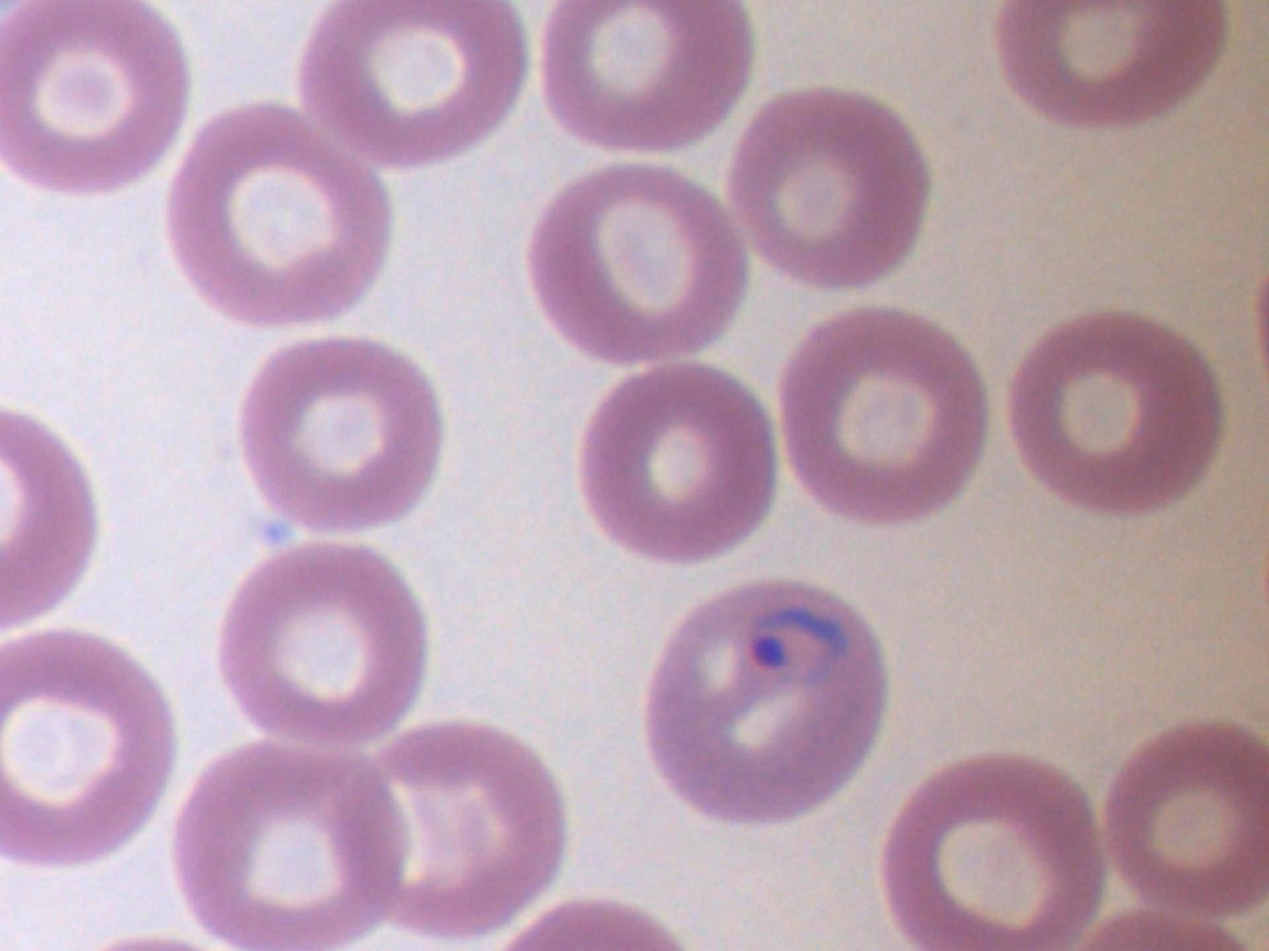Infected: (643, 579, 884, 821)
Uninfected: (168, 104, 391, 323), (176, 747, 408, 944), (780, 305, 987, 521), (529, 167, 746, 362), (1009, 311, 1221, 509), (219, 545, 428, 743), (727, 91, 931, 290), (884, 760, 1099, 944), (1, 634, 173, 861), (577, 366, 777, 559), (239, 338, 441, 527), (375, 730, 561, 933), (304, 0, 525, 167), (3, 0, 188, 190), (542, 0, 756, 151), (1108, 723, 1269, 910), (1001, 0, 1227, 126)
